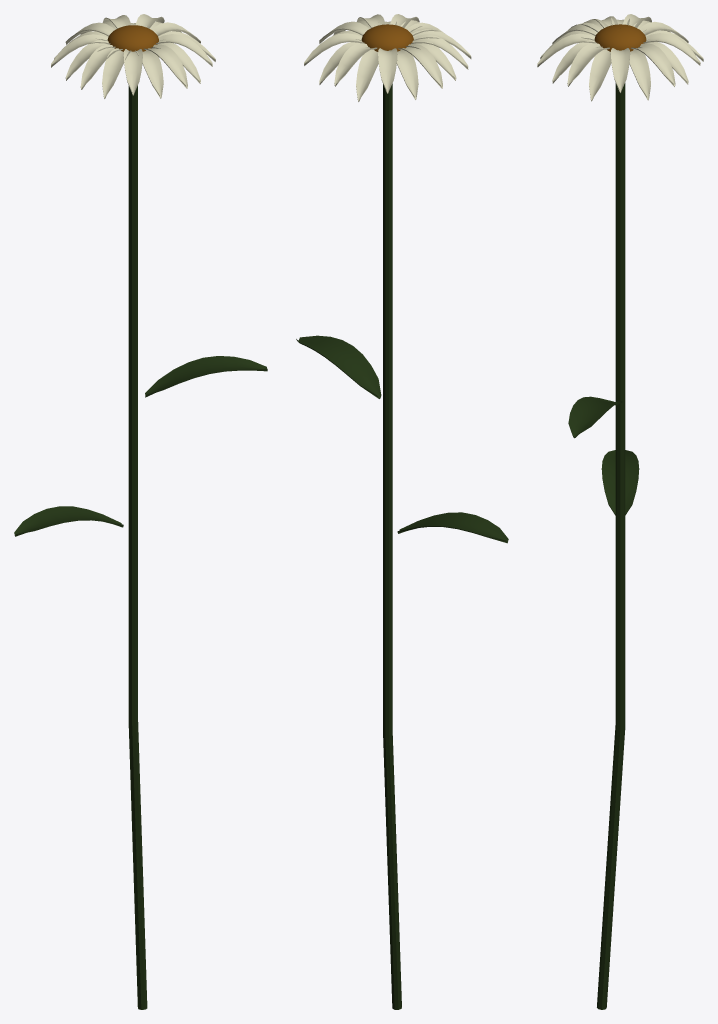
The model's file is D03_DaisyFlower.fbx.
3 views of the same model, side by side, from view 1: azimuth 30°, elevation 25°; view 2: azimuth 150°, elevation 25°; view 3: azimuth 270°, elevation 25° (orthographic).
Visible parts, largest first — view 1: Stem0_Mesh, Petals0_Mesh, Leaves0_Mesh, FlowerCentre0_Mesh; view 2: Stem0_Mesh, Petals0_Mesh, Leaves0_Mesh, FlowerCentre0_Mesh; view 3: Stem0_Mesh, Petals0_Mesh, Leaves0_Mesh, FlowerCentre0_Mesh.
Part boxes in pixels (x1,y1,x2,y2): Stem0_Mesh: (128, 85, 147, 1009); Petals0_Mesh: (51, 14, 215, 98); Leaves0_Mesh: (14, 356, 267, 536); FlowerCentre0_Mesh: (107, 25, 158, 51); Stem0_Mesh: (383, 83, 401, 1009); Petals0_Mesh: (304, 14, 471, 101); Leaves0_Mesh: (296, 335, 508, 543); FlowerCentre0_Mesh: (361, 24, 413, 51); Stem0_Mesh: (597, 83, 625, 1009); Petals0_Mesh: (537, 14, 703, 101); Leaves0_Mesh: (568, 396, 639, 515); FlowerCentre0_Mesh: (594, 24, 646, 51).
Size of the model in its own units: 0.0857 by 0.3467 by 0.0533.
